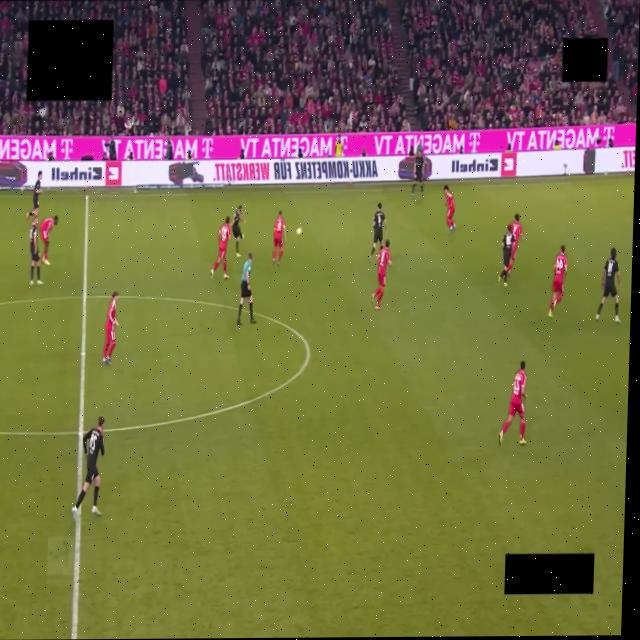ball: (296, 228, 301, 235)
player: (71, 416, 104, 520), (498, 361, 525, 444), (595, 248, 620, 322), (371, 239, 390, 309), (548, 245, 566, 317), (103, 292, 120, 366), (210, 216, 230, 278), (28, 217, 45, 285), (39, 216, 59, 266), (497, 225, 513, 287), (369, 203, 385, 262), (508, 213, 522, 275), (25, 171, 42, 219), (272, 211, 285, 266), (410, 148, 423, 198), (231, 206, 243, 257), (443, 186, 455, 234)
referee: (236, 253, 254, 325)
